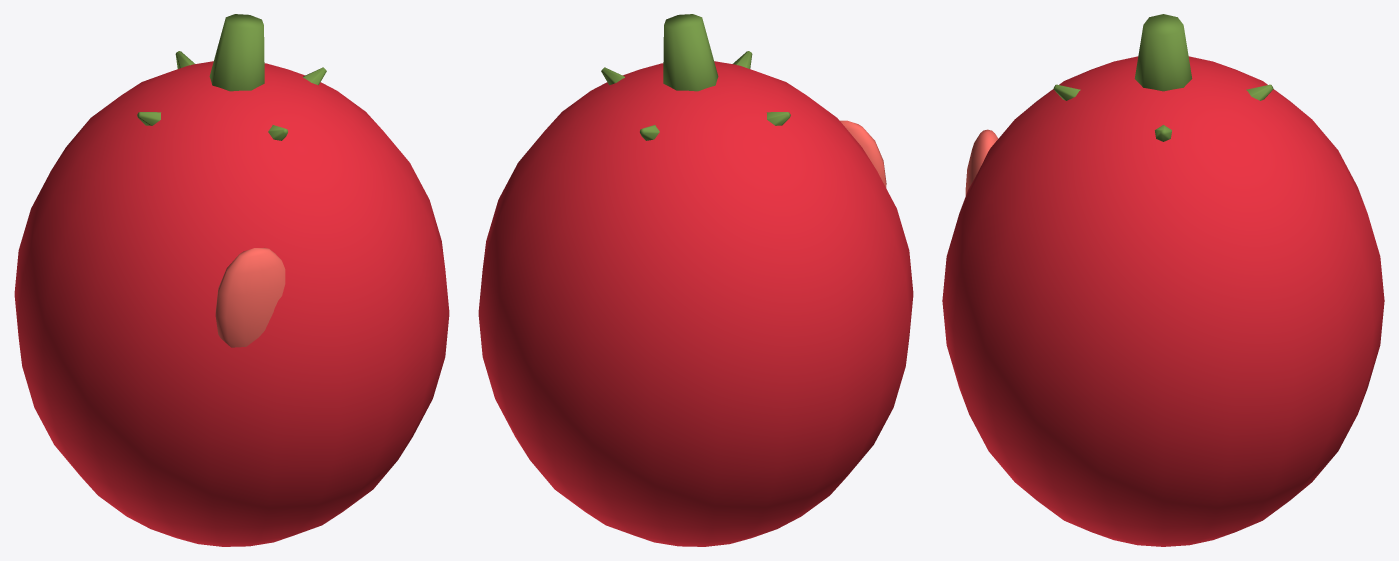
File: Fruit_Red.fbx
3 renders of one model, left to right at view 1: azimuth 30°, elevation 25°; view 2: azimuth 150°, elevation 25°; view 3: azimuth 270°, elevation 25°, orthographic.
Parts seen in each view (by area): view 1: Fruit_Body, Fruit_Highlight, Fruit_Stem; view 2: Fruit_Body, Fruit_Stem, Fruit_Highlight; view 3: Fruit_Body, Fruit_Stem, Fruit_Highlight.
Part boxes in pixels (bbox=[...]): Fruit_Body: bbox=[14, 61, 449, 546]; Fruit_Highlight: bbox=[215, 247, 285, 347]; Fruit_Stem: bbox=[209, 14, 264, 91]; Fruit_Body: bbox=[478, 61, 913, 546]; Fruit_Stem: bbox=[663, 14, 718, 91]; Fruit_Highlight: bbox=[840, 120, 886, 187]; Fruit_Body: bbox=[942, 56, 1384, 546]; Fruit_Stem: bbox=[1134, 14, 1192, 91]; Fruit_Highlight: bbox=[965, 129, 998, 195].
Bounding box in the file's own units: 44 × 56.27 × 44.
